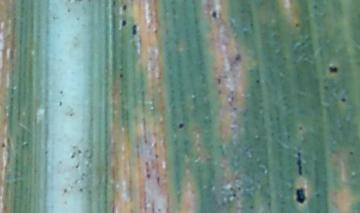tarspot: (293, 183, 307, 207), (294, 151, 305, 180), (325, 62, 341, 77), (208, 8, 221, 21), (130, 22, 139, 40), (175, 119, 187, 132), (253, 76, 265, 88), (116, 72, 128, 83), (338, 94, 348, 107), (118, 3, 130, 13), (119, 18, 129, 29)
